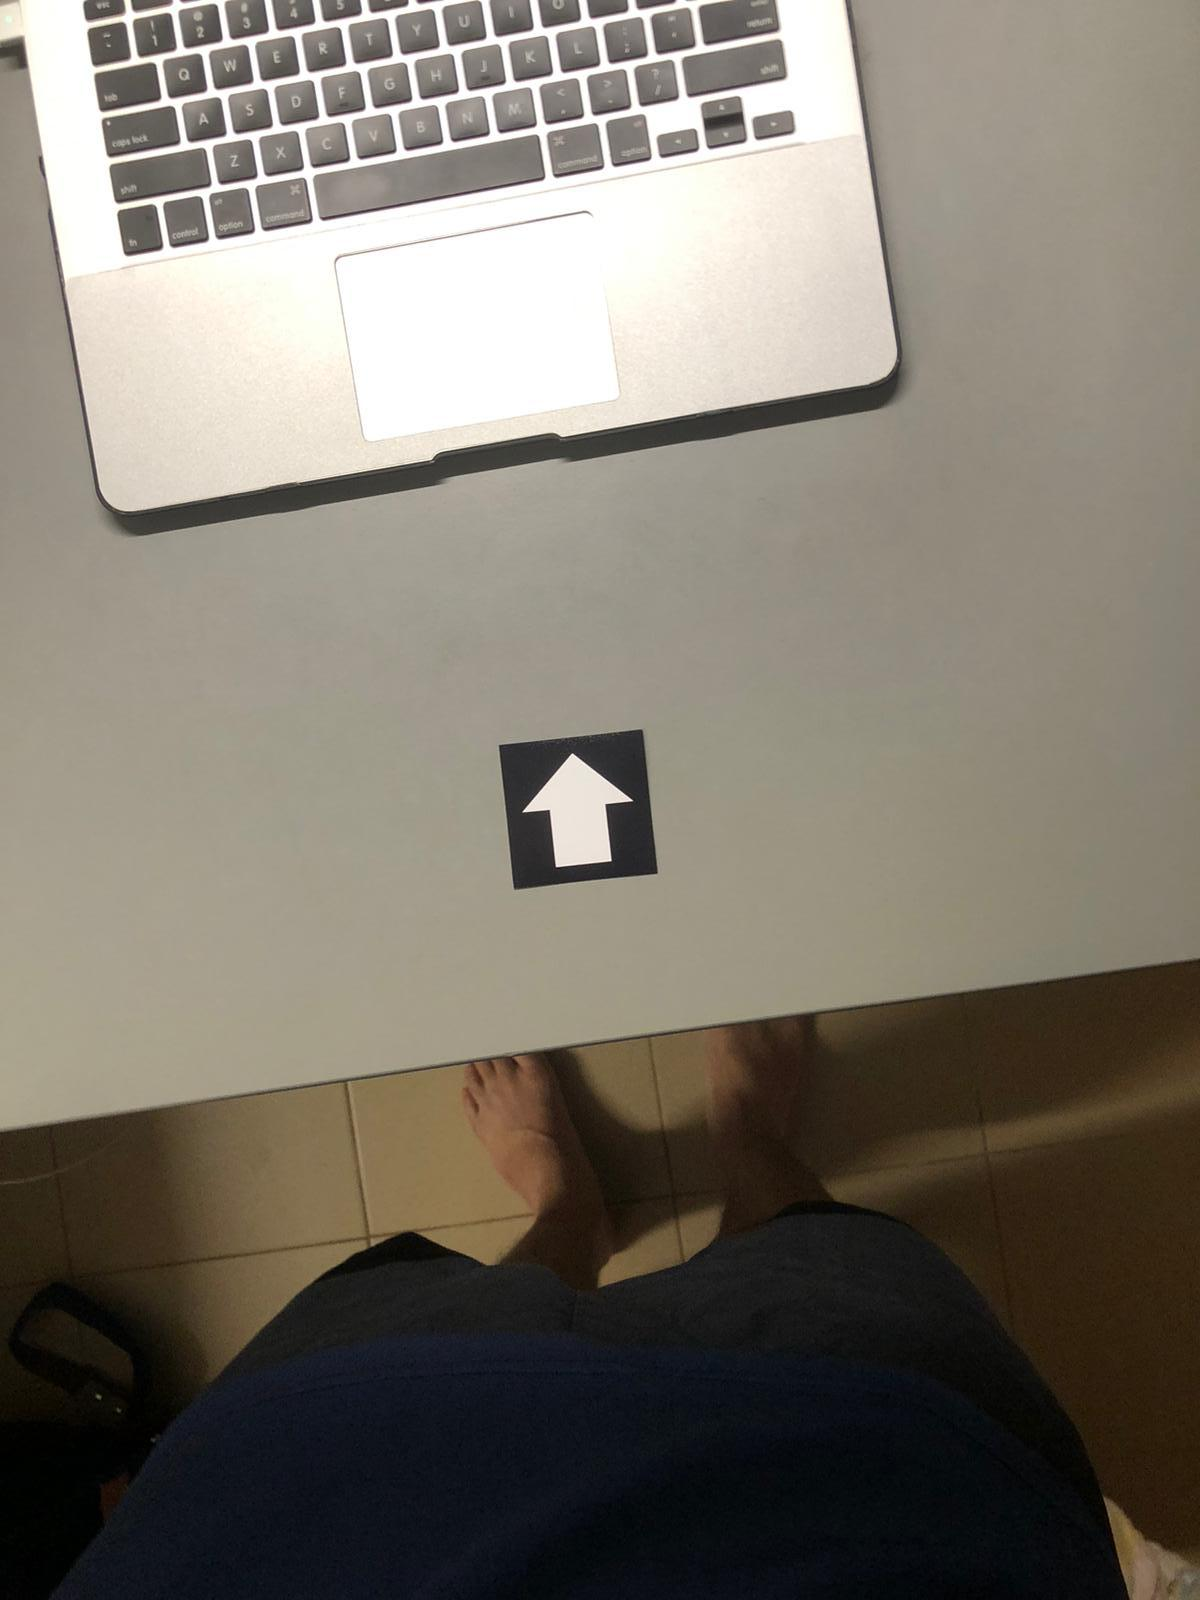Top Arrow: (500, 743, 655, 888)
